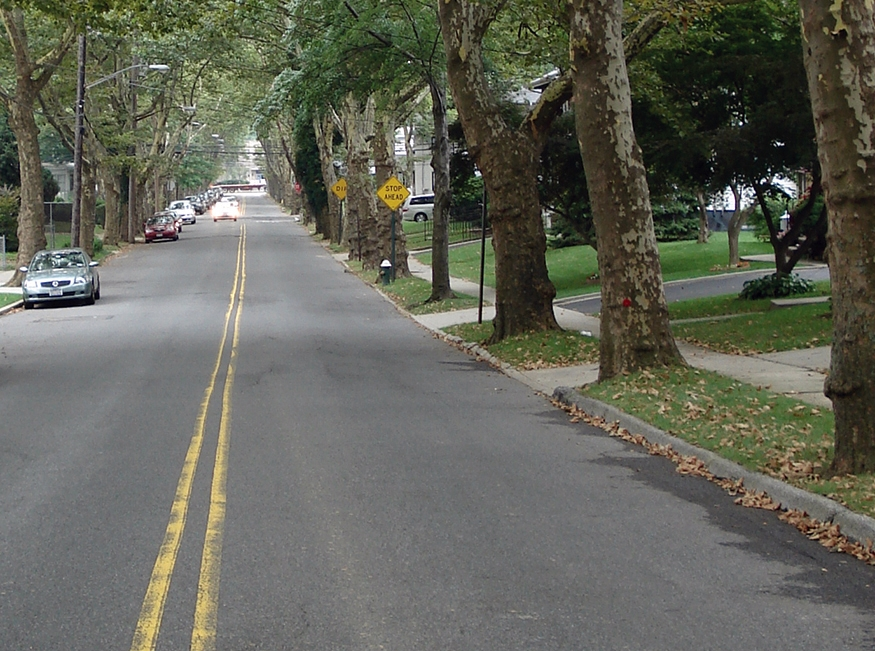Car: (26, 252, 105, 308), (139, 214, 181, 244)
Tree: (533, 1, 783, 408), (403, 1, 593, 351), (247, 1, 440, 305), (1, 1, 87, 251)
